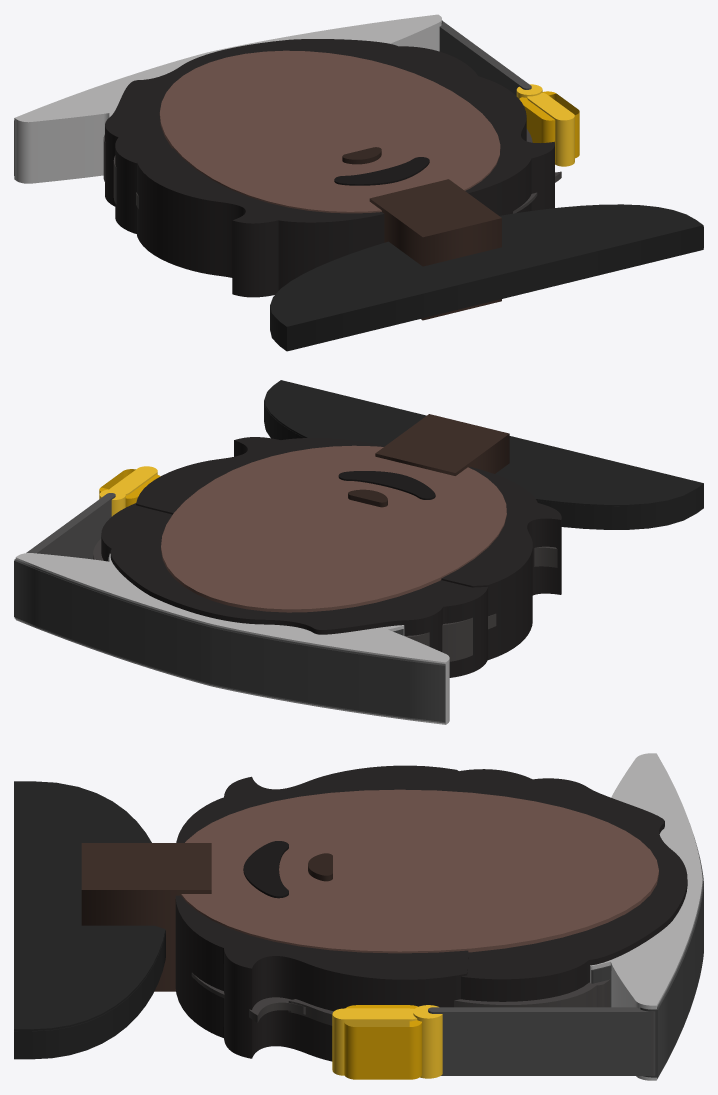
File: emoji_u1f9d1_1f3ff_200d_1f393.glb
The picture shows the model from 3 angles, top to bottom: view 1: azimuth 30°, elevation 25°; view 2: azimuth 150°, elevation 25°; view 3: azimuth 270°, elevation 25°; orthographic projection. The views are drawn at different scales.
Visible parts, largest first — view 1: emoji_u1f9d1_1f3ff_200d_1f393; view 2: emoji_u1f9d1_1f3ff_200d_1f393; view 3: emoji_u1f9d1_1f3ff_200d_1f393.
Boxes of the visible parts, x1,y1,x2,y2 form: emoji_u1f9d1_1f3ff_200d_1f393: (14, 14, 703, 351); emoji_u1f9d1_1f3ff_200d_1f393: (14, 380, 703, 724); emoji_u1f9d1_1f3ff_200d_1f393: (14, 753, 703, 1080).
Size of the model in its own units: 0.03 by 0.0056 by 0.0333.
